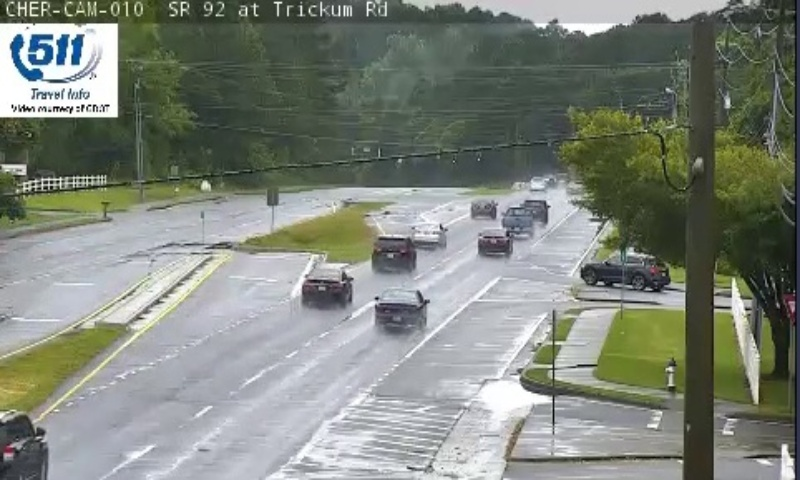car: (375, 288, 426, 321), (302, 267, 350, 301), (371, 232, 414, 268), (501, 205, 532, 234), (478, 229, 511, 256), (413, 221, 446, 247), (519, 198, 547, 223), (471, 196, 496, 216)
